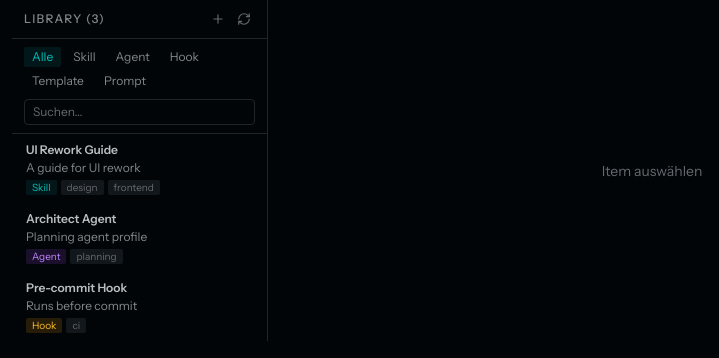
LibraryViewer › filters items by search query
The width and height of the screenshot is (719, 358).
Type "architect" into the field with placeholder "Suchen...". click: {"x": 140, "y": 112}
box: [24,99,255,125]
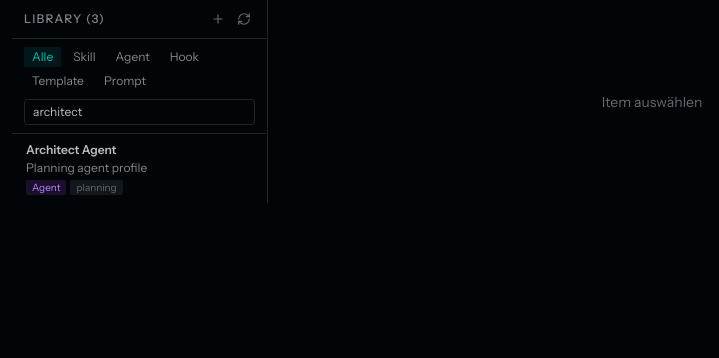
Check: the text "Architect Agent" is shown, box [26,142,116,158]
Check: the button "UI Rework Guide" is gone
